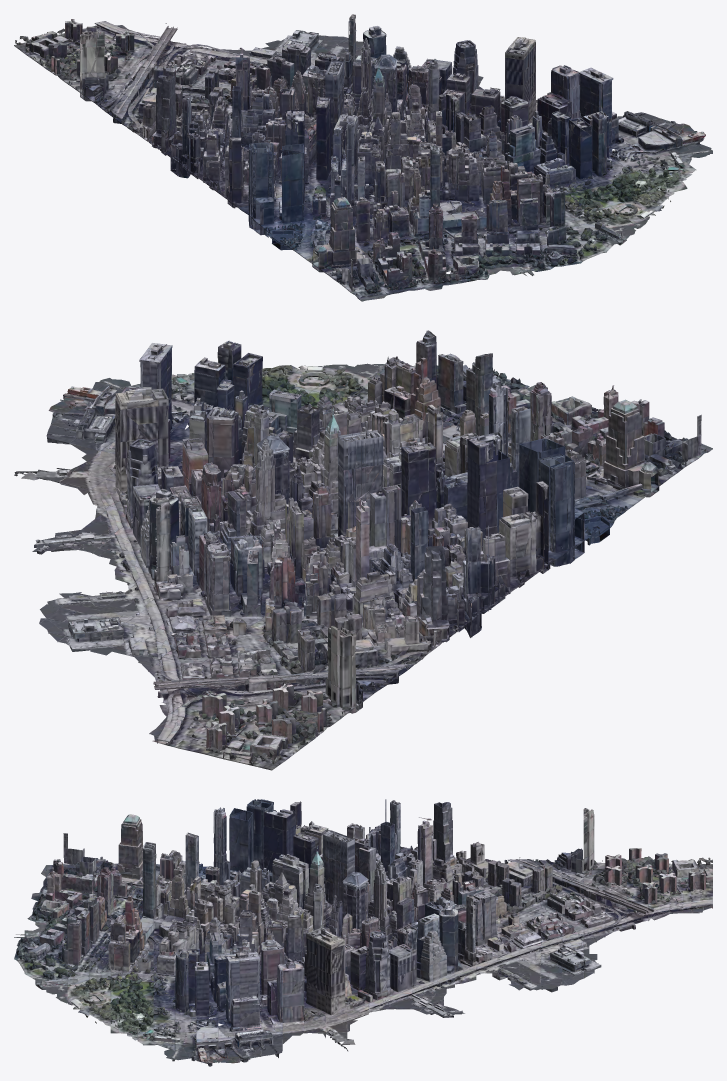
Rendered from new_york_city.glb.
The picture shows the model from 3 angles, top to bottom: view 1: azimuth 30°, elevation 25°; view 2: azimuth 150°, elevation 25°; view 3: azimuth 270°, elevation 25°; orthographic projection. The views are drawn at different scales.
Visible parts, largest first — view 1: Object_4, Object_3, Object_9, Object_8, Object_6, Object_7, Object_10, Object_5, Object_11, Object_15, Object_14, Object_16 (+2 smaller); view 2: Object_9, Object_3, Object_4, Object_8, Object_6, Object_7, Object_5, Object_11, Object_10, Object_15, Object_16, Object_12 (+2 smaller); view 3: Object_3, Object_9, Object_4, Object_5, Object_10, Object_8, Object_11, Object_6, Object_7, Object_15, Object_16, Object_13 (+2 smaller).
Boxes of the visible parts, box(x1,y1,x2,y2) form: Object_4: box(14, 21, 679, 301); Object_3: box(118, 30, 712, 281); Object_9: box(171, 14, 618, 209); Object_8: box(77, 26, 612, 251); Object_6: box(133, 32, 641, 256); Object_7: box(305, 55, 602, 208); Object_10: box(231, 48, 612, 224); Object_5: box(71, 19, 612, 290); Object_11: box(72, 17, 535, 276); Object_15: box(36, 40, 520, 237); Object_14: box(202, 103, 570, 246); Object_16: box(59, 65, 555, 250); Object_9: box(39, 343, 584, 622); Object_3: box(14, 356, 585, 709); Object_4: box(53, 365, 712, 770); Object_8: box(127, 340, 656, 699); Object_6: box(157, 330, 598, 727); Object_7: box(146, 342, 475, 574); Object_5: box(102, 393, 670, 754); Object_11: box(138, 373, 701, 727); Object_10: box(122, 348, 564, 581); Object_15: box(191, 407, 556, 748); Object_16: box(81, 376, 527, 726); Object_12: box(109, 431, 460, 637); Object_3: box(14, 881, 626, 1066); Object_9: box(142, 799, 571, 1013); Object_4: box(24, 848, 712, 1032); Object_5: box(31, 860, 712, 1032); Object_10: box(110, 832, 411, 1007); Object_8: box(115, 801, 621, 1013); Object_11: box(47, 802, 702, 984); Object_6: box(66, 823, 699, 1032); Object_7: box(116, 867, 454, 991); Object_15: box(110, 848, 669, 983); Object_16: box(81, 862, 626, 1009); Object_13: box(153, 874, 397, 1033).
Bounding box in the file's own units: 8.07 × 2.23 × 11.93.
Materials: 1 (1 with a texture image).
